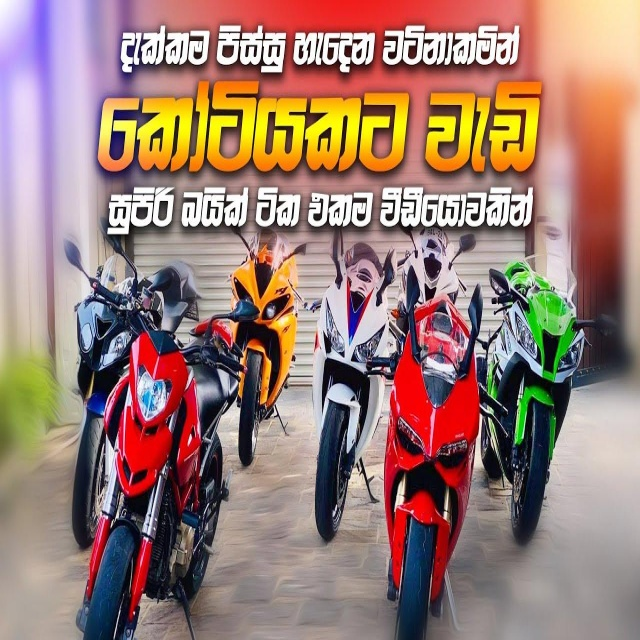Motorcycle: (76, 216, 261, 640), (479, 250, 614, 545), (383, 266, 480, 640), (309, 210, 399, 542), (63, 236, 147, 548), (227, 220, 307, 468)
